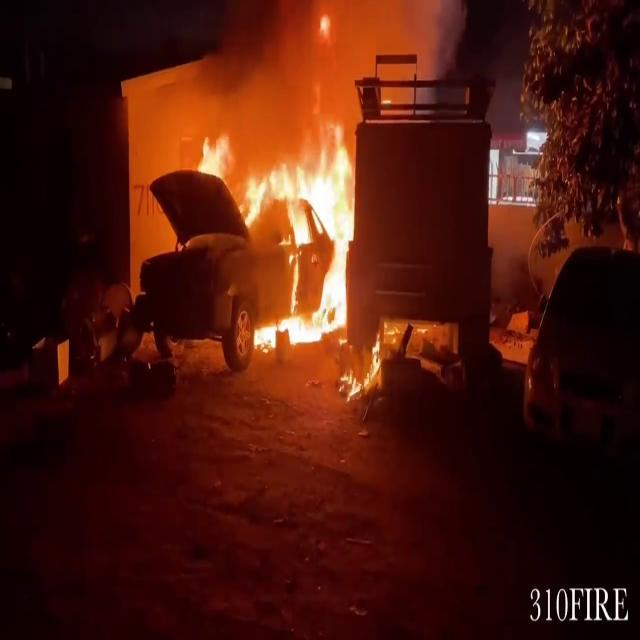Fire: (239, 118, 373, 357), (340, 348, 387, 401)
Smoke: (195, 0, 445, 188)
